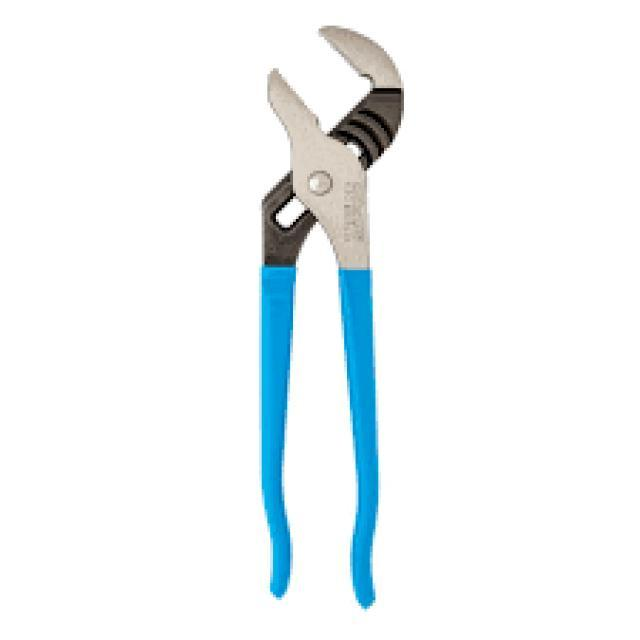pliers: (248, 19, 412, 612)
